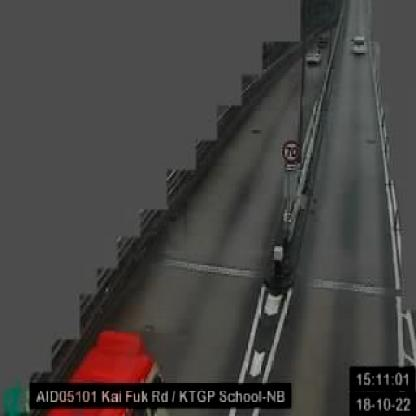Car: (350, 32, 367, 56)
